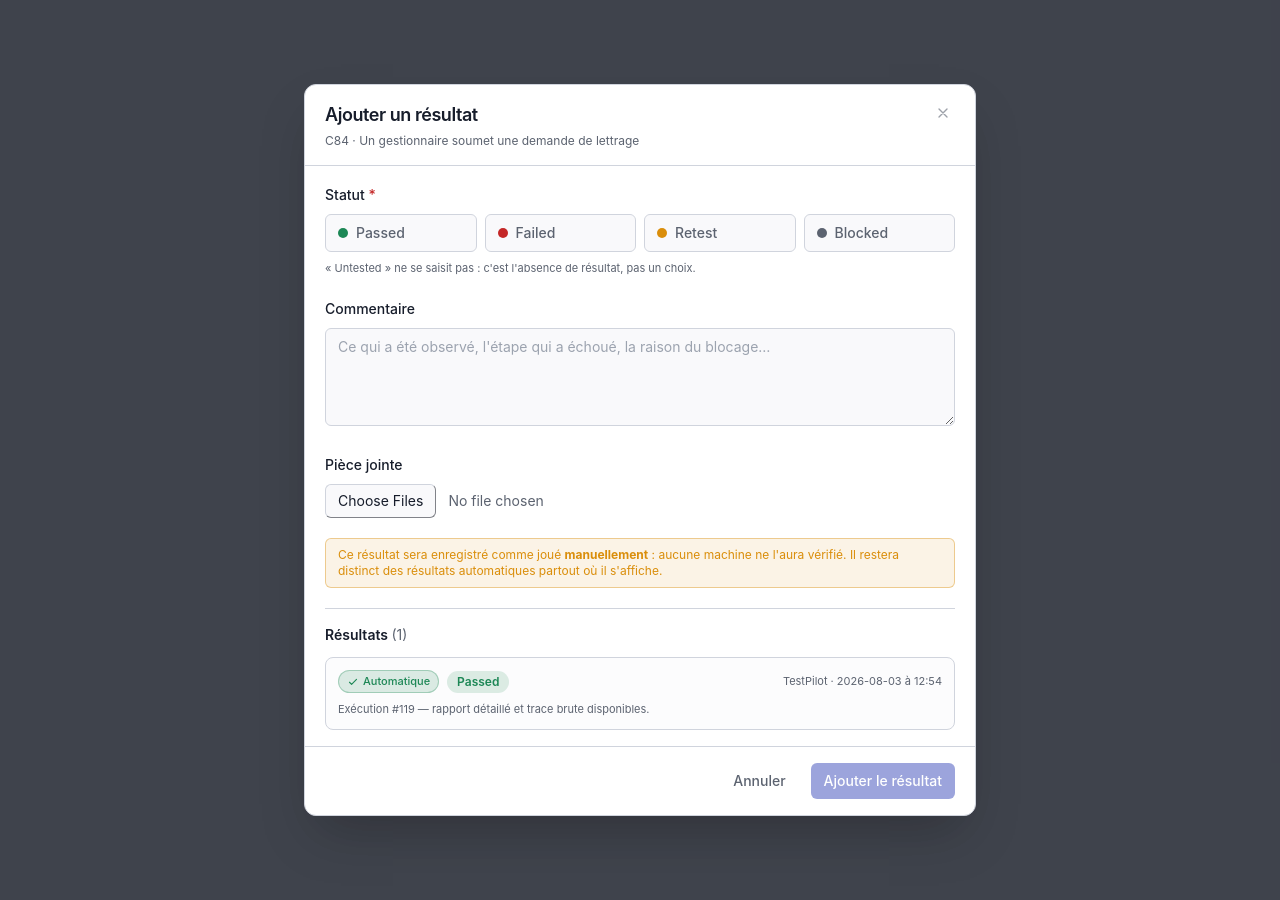
Test: AddResultDialog — l'exécution manuelle d'un cas › une erreur du serveur s'affiche sans fermer la fenêtre (la saisie n'est pas perdue)
Click the button "Passed" at (401, 233), box [325, 214, 476, 252]
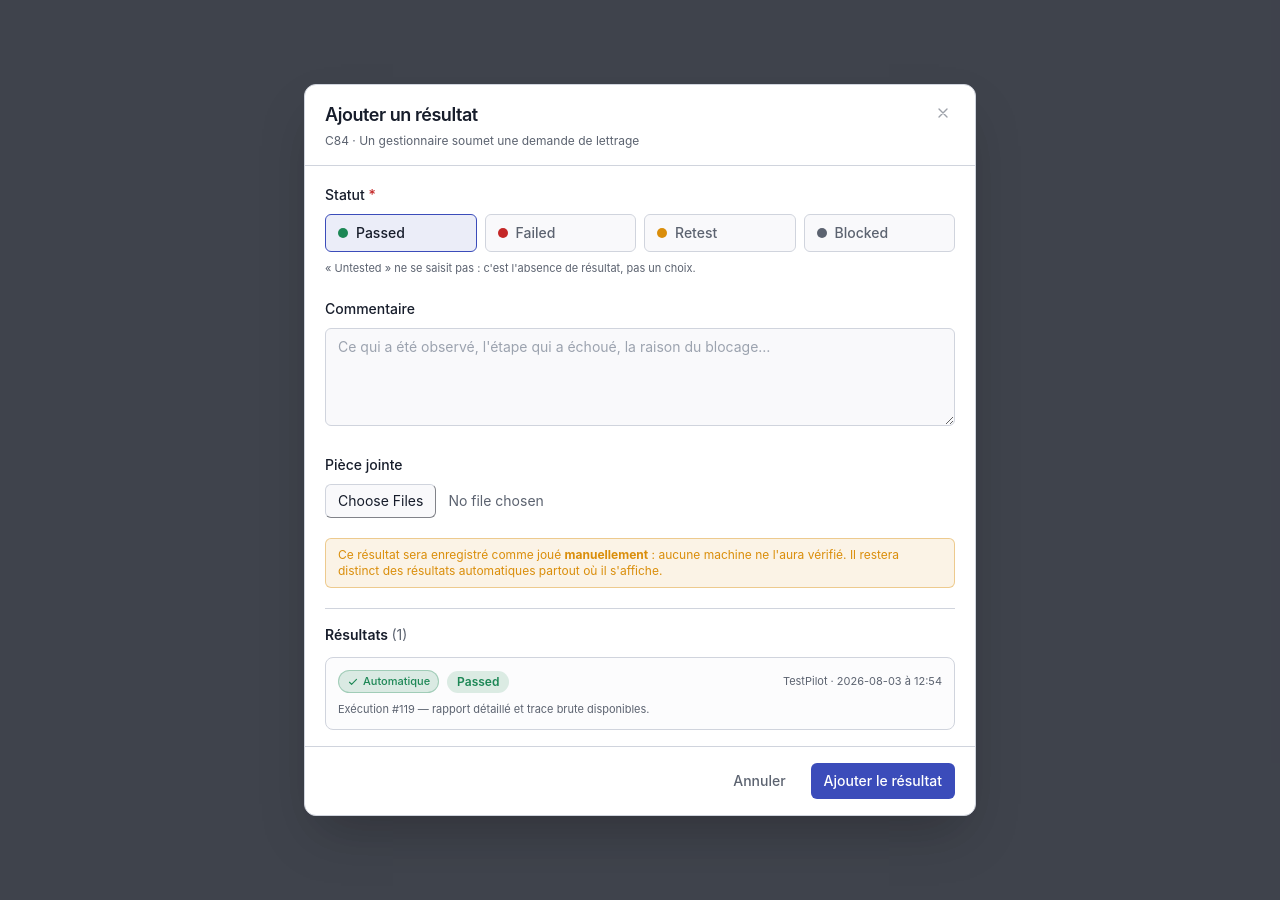
Click the button "Ajouter le résultat" at (883, 781), box [811, 763, 955, 799]
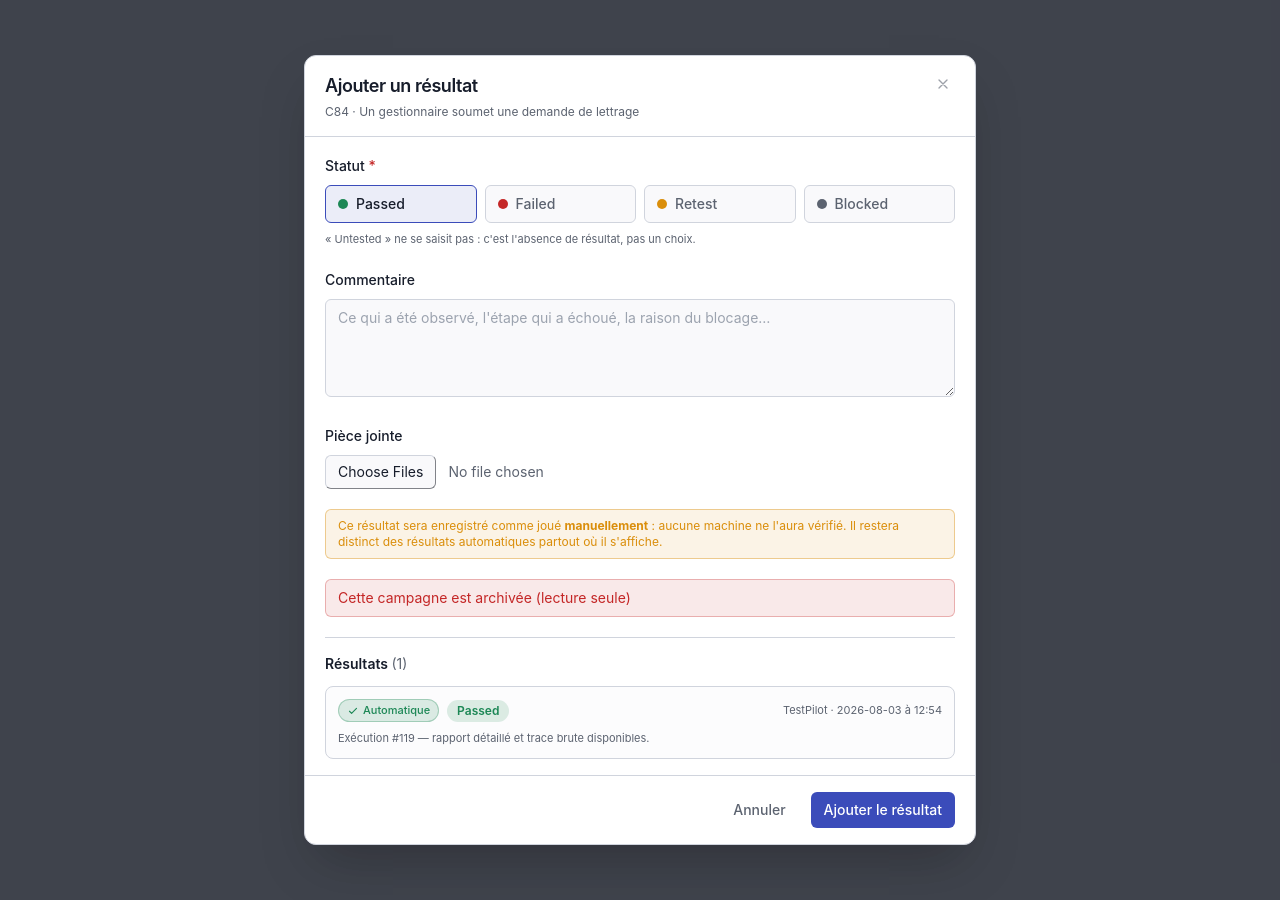
Now the text "archivée" is shown, box [338, 589, 631, 606]
